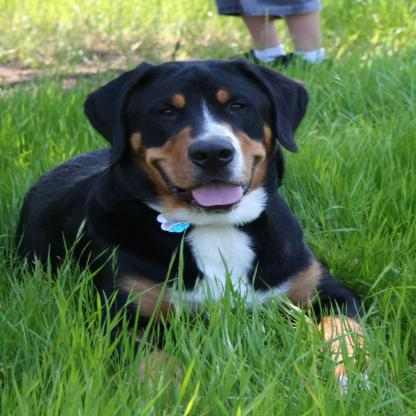Greater_Swiss_Mountain_dog: (16, 58, 364, 400)
